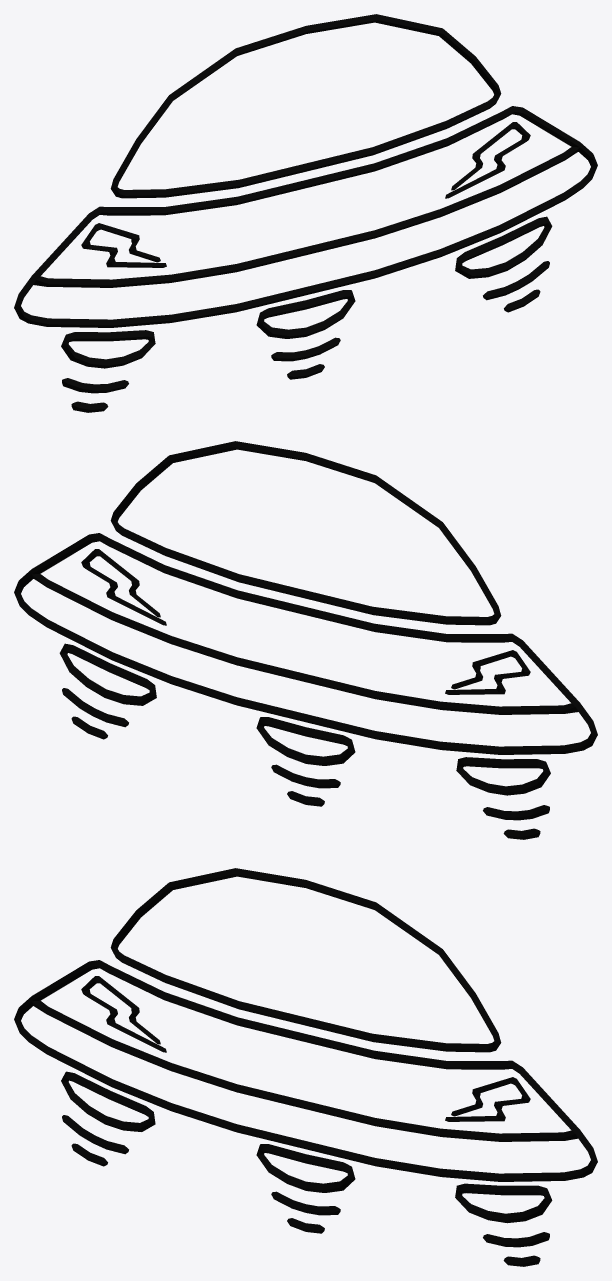
Rendered from SM_Prop_Casino_Neon_14.fbx.
3 views of the same model, one above another, from view 1: azimuth 30°, elevation 25°; view 2: azimuth 150°, elevation 25°; view 3: azimuth 330°, elevation 25° (orthographic).
Parts seen in each view (by area): view 1: SM_Prop_Casino_Neon_14; view 2: SM_Prop_Casino_Neon_14; view 3: SM_Prop_Casino_Neon_14.
Part boxes in pixels (x1,y1,x2,y2): SM_Prop_Casino_Neon_14: [14, 14, 597, 412]; SM_Prop_Casino_Neon_14: [14, 441, 597, 839]; SM_Prop_Casino_Neon_14: [14, 868, 597, 1266].
Bounding box in the file's own units: 558 × 321 × 8.54.
